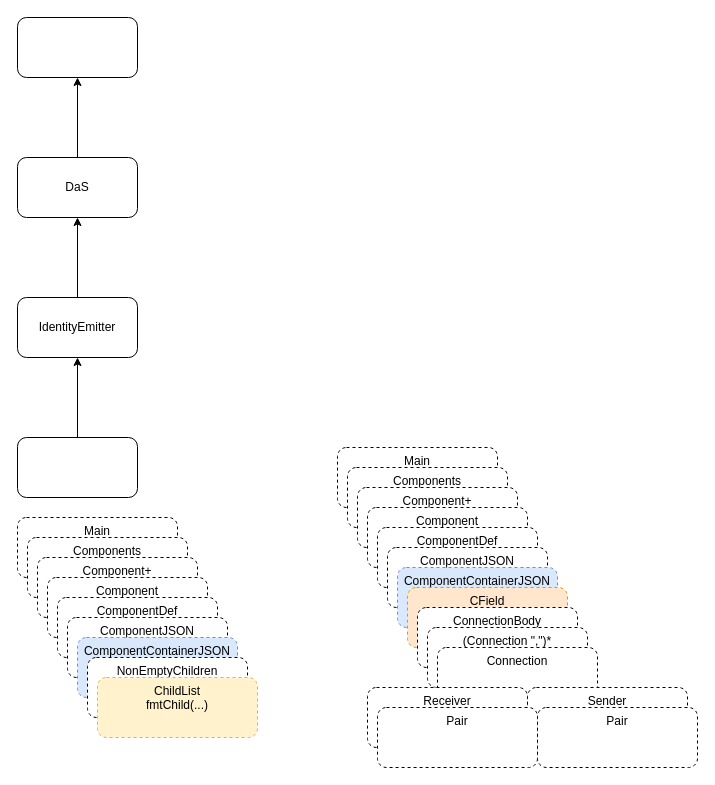
Some shapes in this 715 by 785 pixel diagram are drawn without their labels. Here are the shapes that lost their labels. From the top down, the centre of each, then its label:
At (77,47): "Verbatim".
At (77,467): "xClass".
